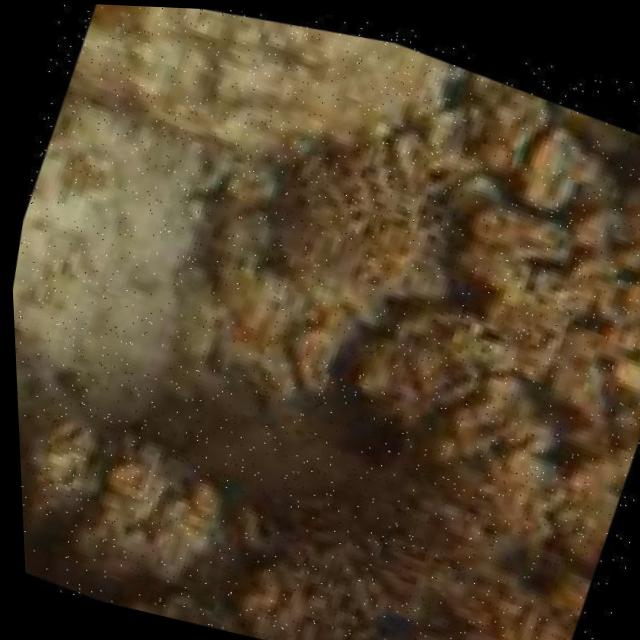Healthy Coral: (180, 37, 640, 640)
